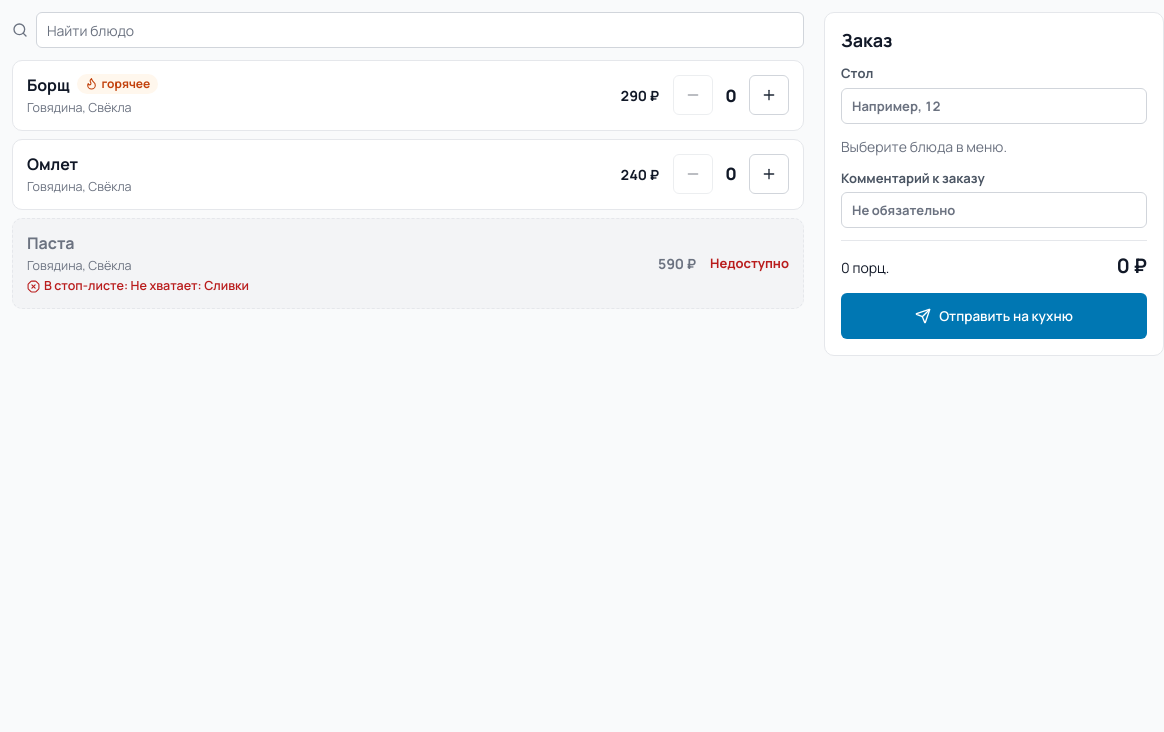
Test: заказ официанта › считает сумму заказа и не отправляет без стола и без блюд
Click the button "Отправить на кухню" at (994, 316), box [841,293,1147,339]
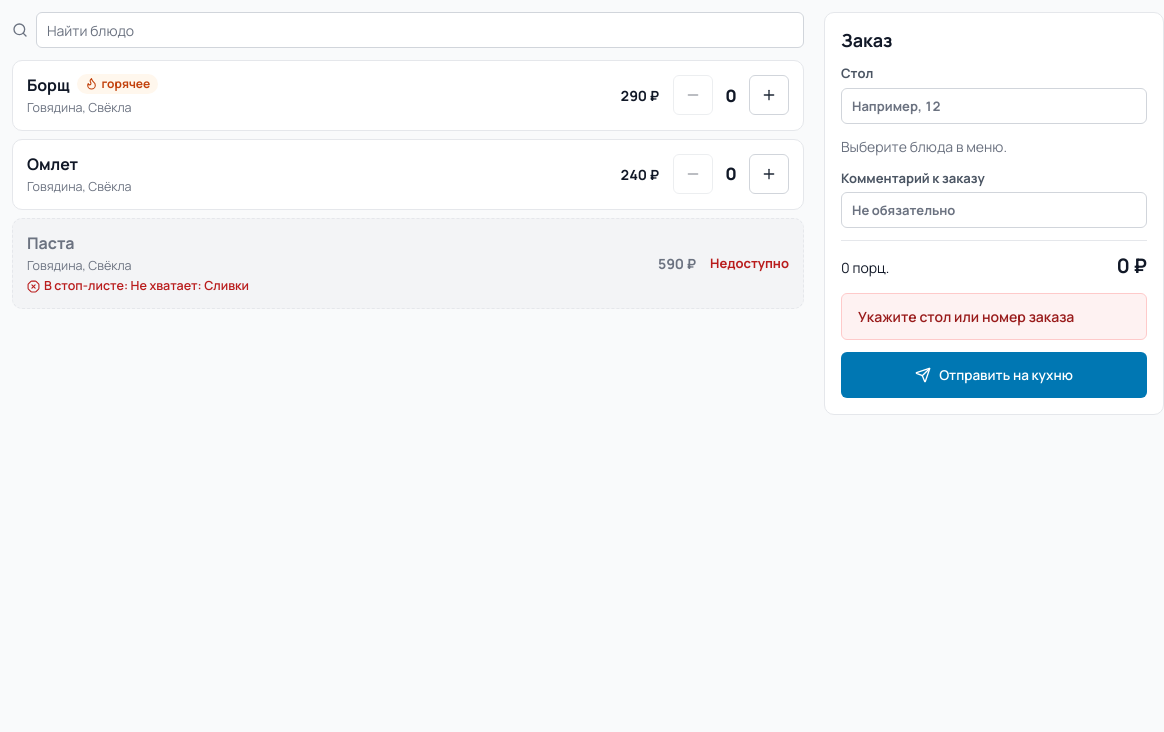
Expected: the text "Укажите стол или номер заказа" is shown, [858,306,1074,327]
Type "7" into the field with placeholder "Например, 12" at (994, 106), box [841,88,1147,124]
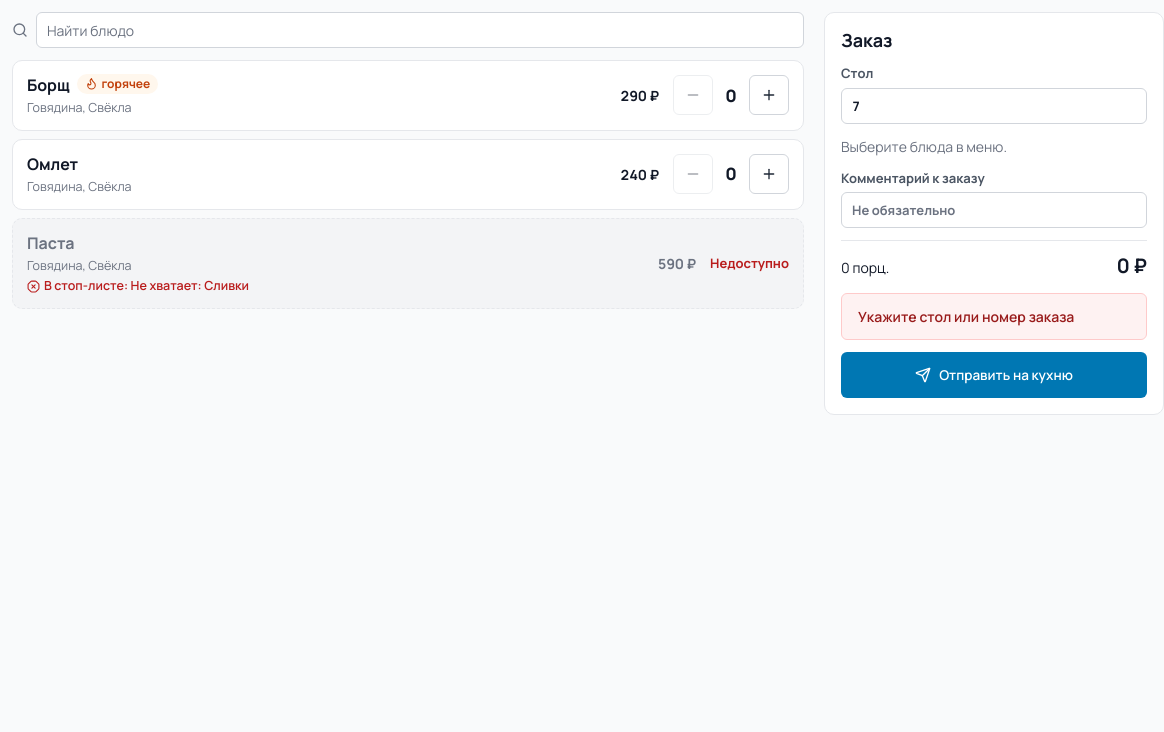
Click the button "Отправить на кухню" at (994, 375), box [841,352,1147,398]
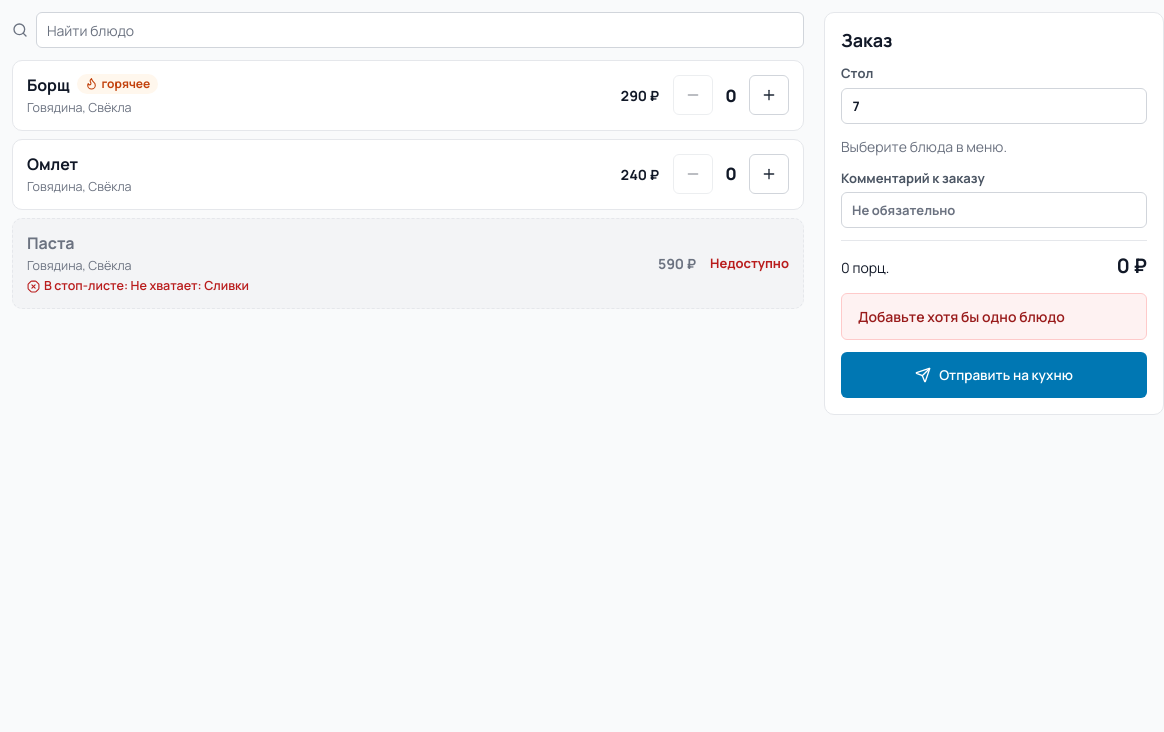
Expected: the text "Добавьте хотя бы одно блюдо" is shown, [858,306,1065,327]
Click the button named "Добавить Борщ" at (769, 95), box [749,75,789,115]
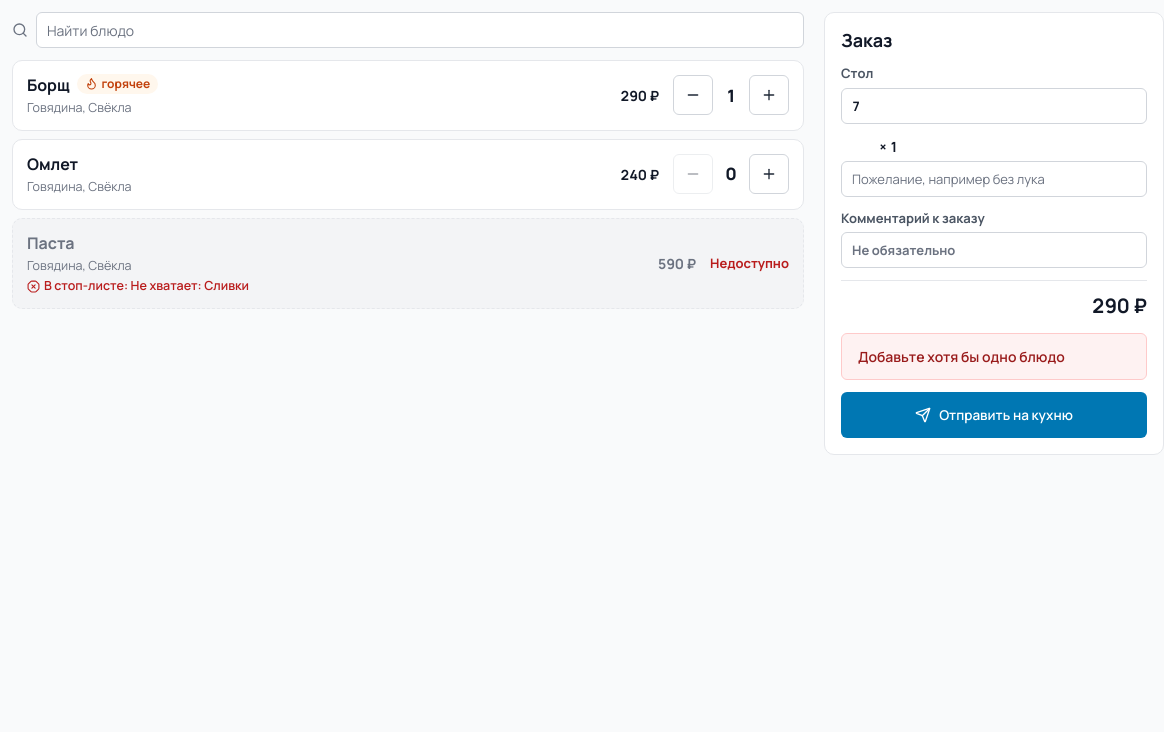
Click the button named "Добавить Борщ" at (769, 95), box [749,75,789,115]
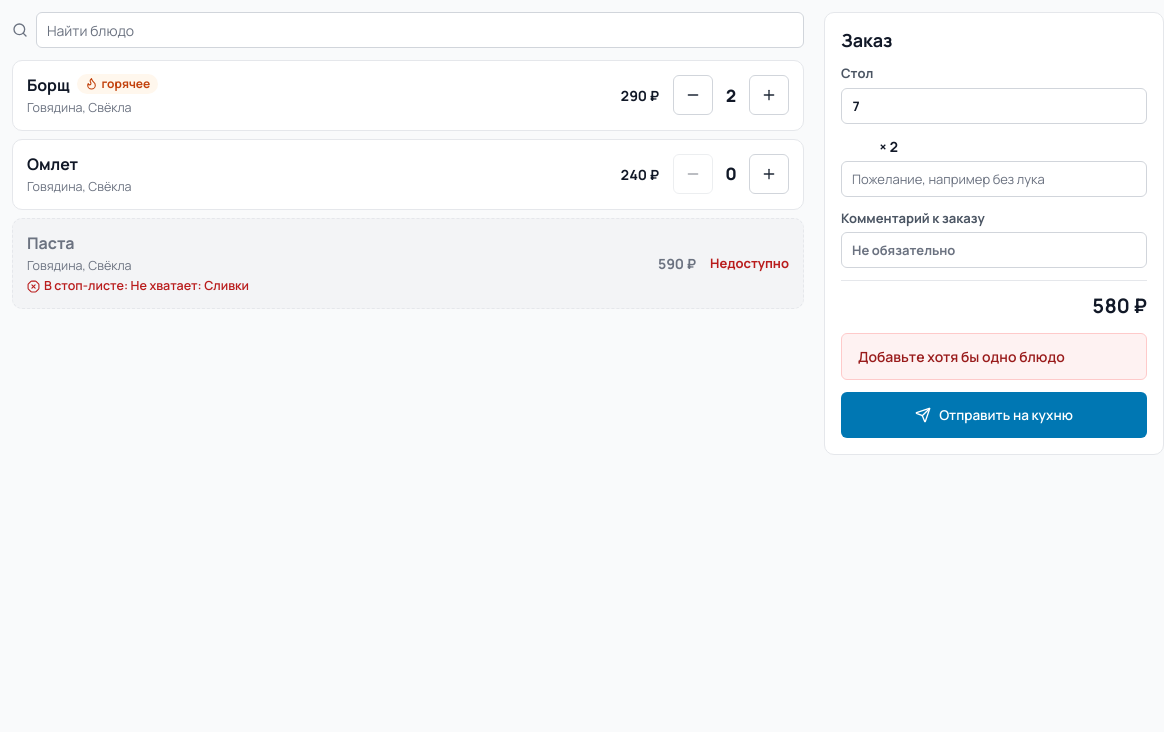
Click the button named "Добавить Омлет" at (769, 174), box [749,154,789,194]
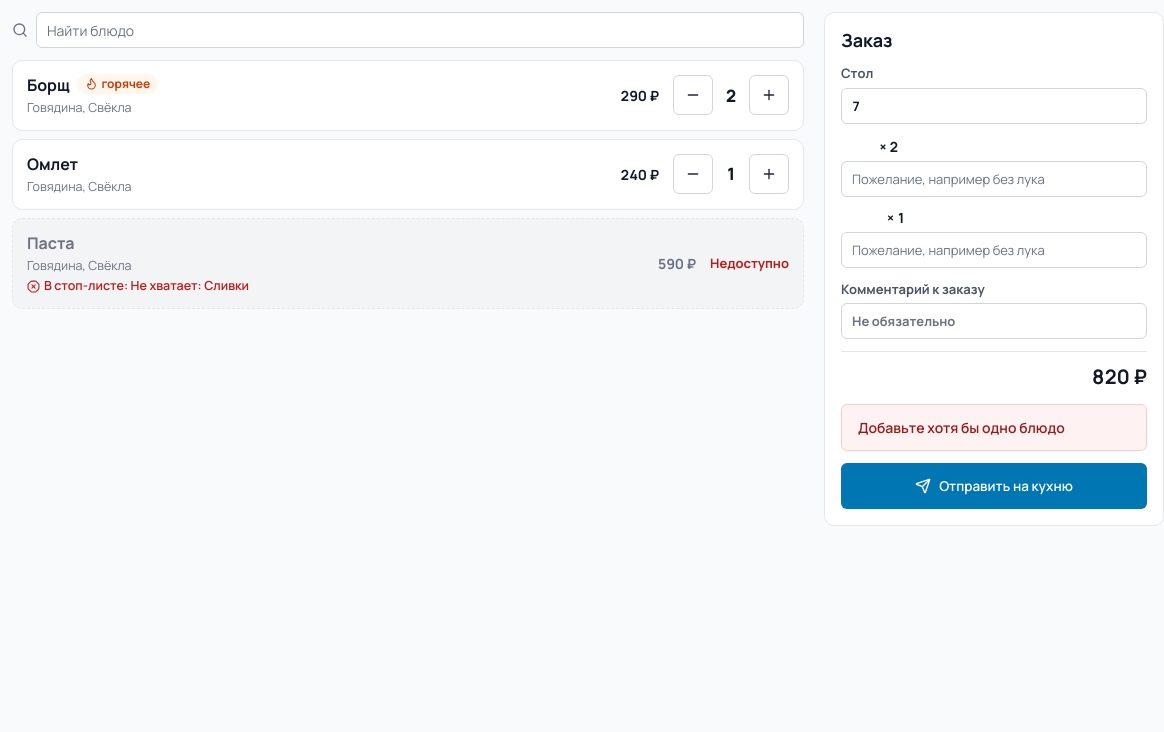
Expected: the text "820 ₽" is shown, [1092,362,1147,392]
